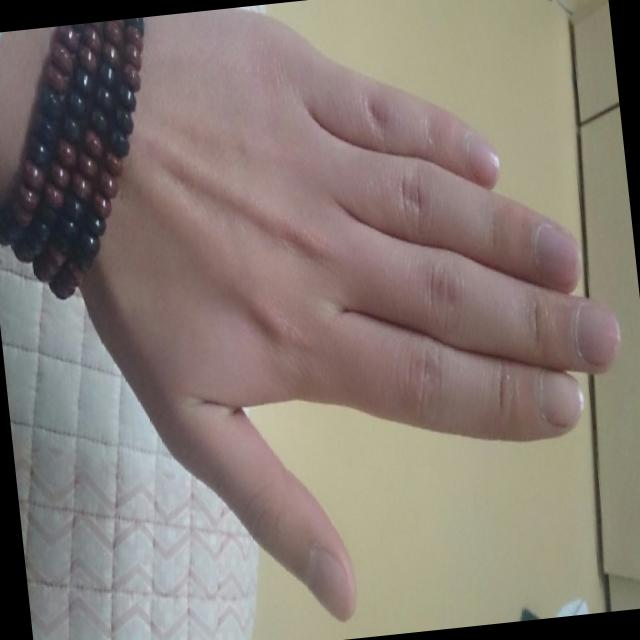Nail: (305, 546, 352, 621), (534, 220, 579, 287), (574, 301, 619, 365), (538, 370, 583, 428), (466, 132, 498, 188)
